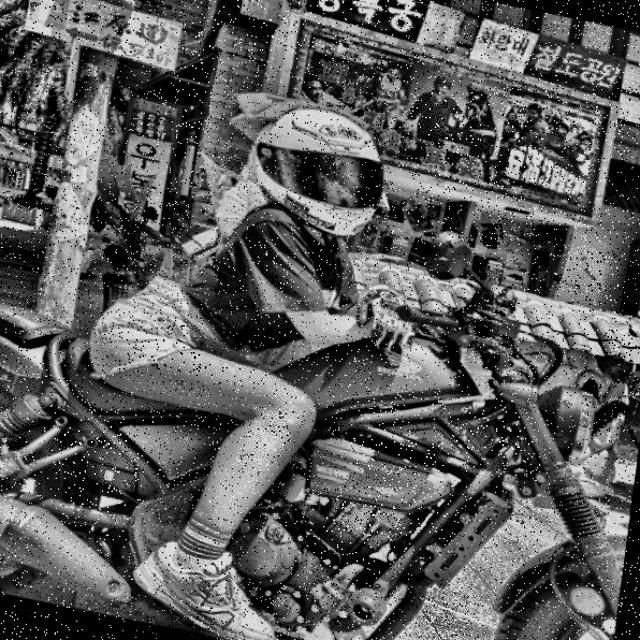Helmet: (238, 96, 398, 255)
